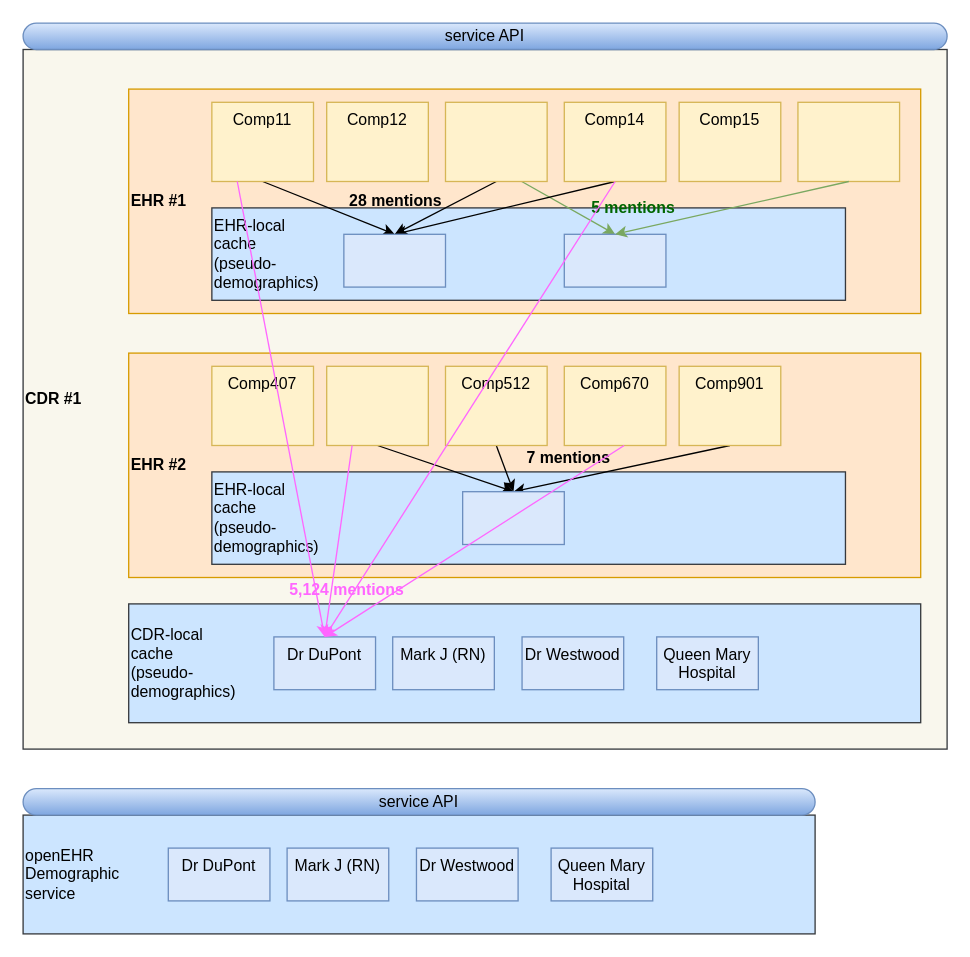
Image size: 970x957. Some labels were removed from this diagram. The centre of each missing label's shape, as x and y in pixels:
"Aunt Sue" goes at point (614, 260).
"Comp13" goes at point (495, 141).
"Comp16" goes at point (848, 141).
"Comp511" goes at point (376, 405).
"Jonas (brother)" goes at point (512, 517).
"P Smith LLB (lawyer)" goes at point (394, 260).
